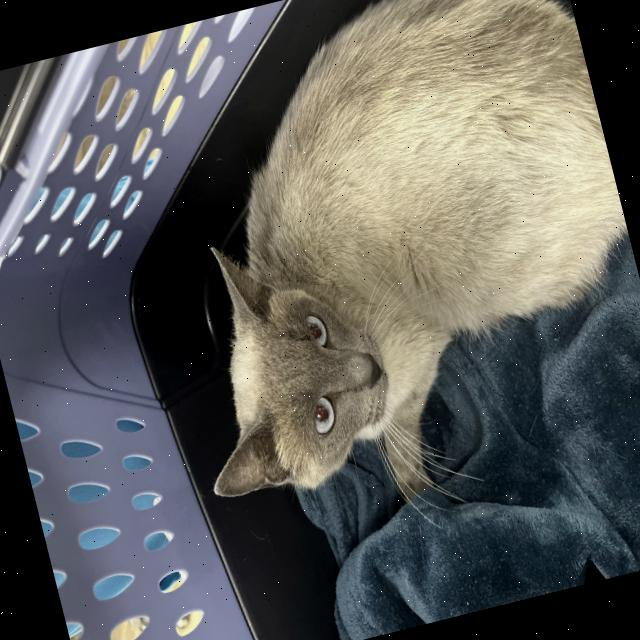siamese_cat: (144, 195, 436, 540)
